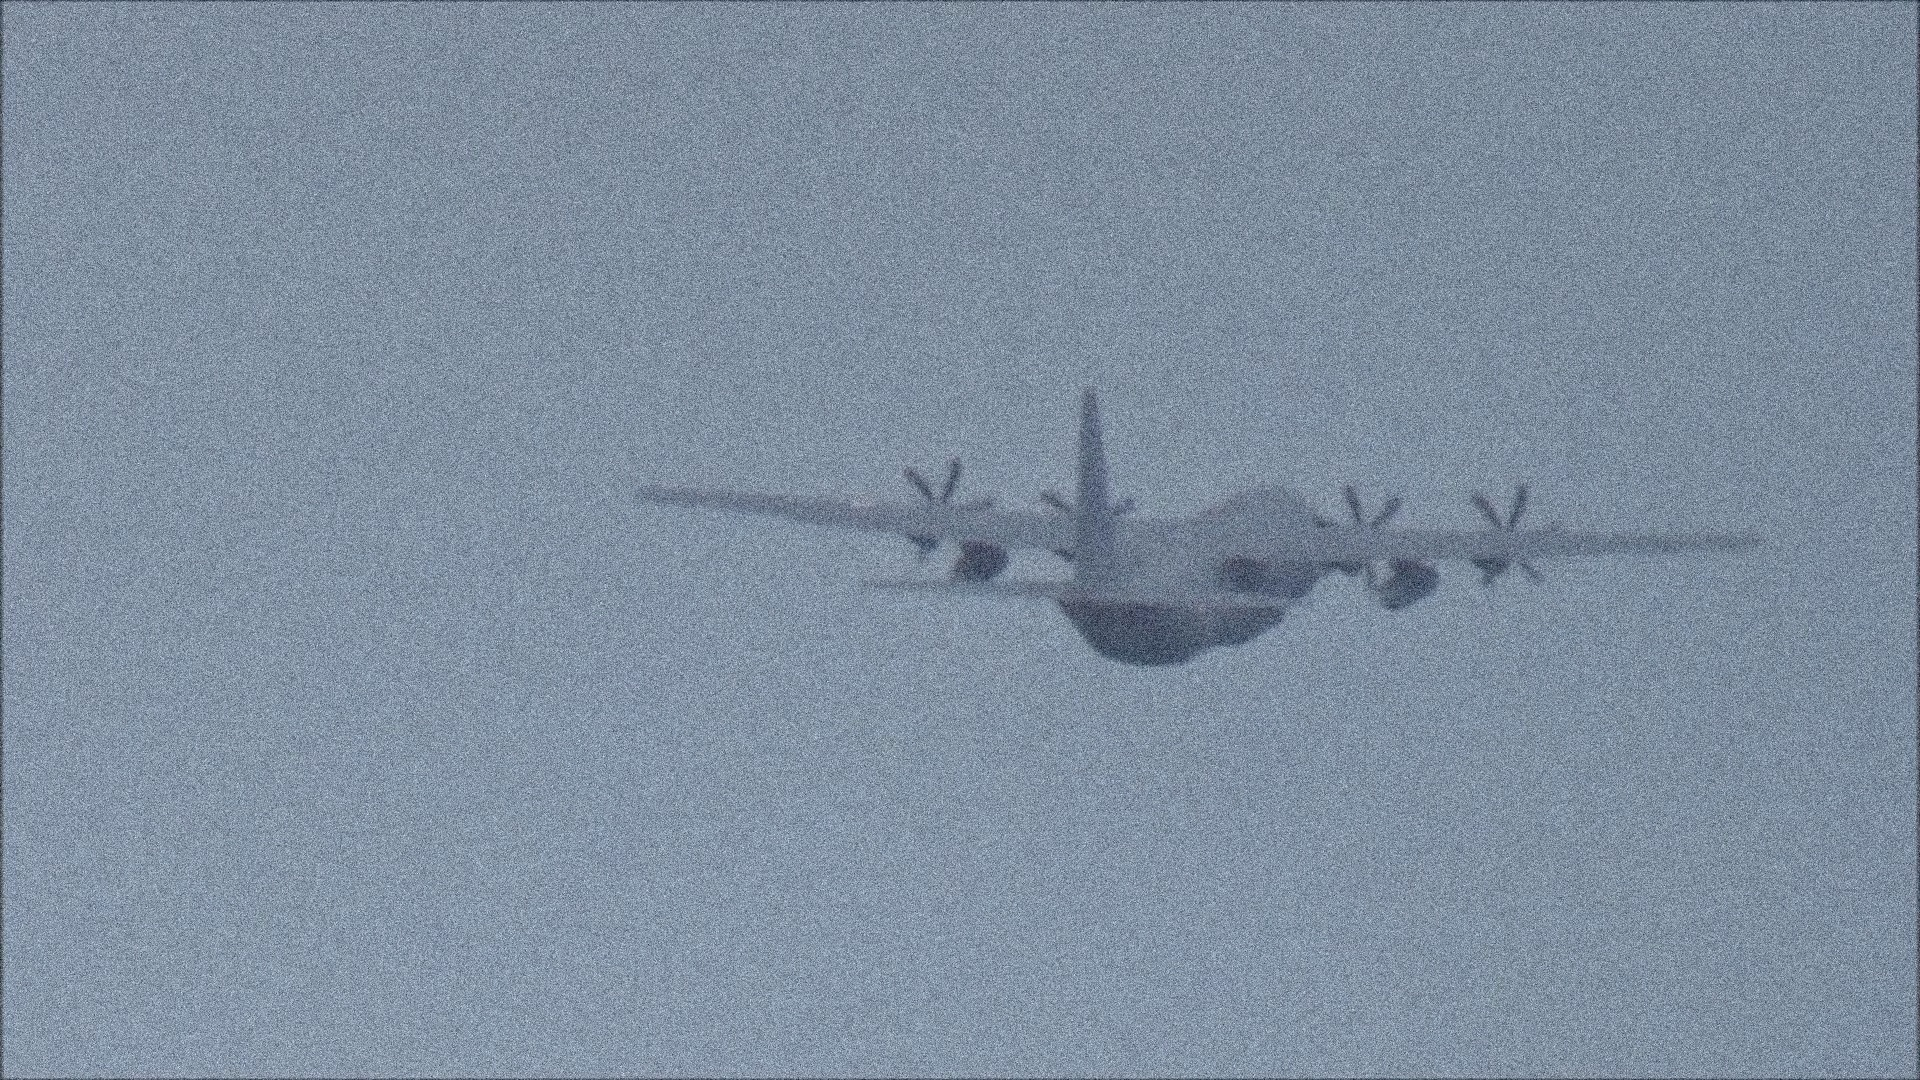Airplane: (649, 390, 1766, 669)
